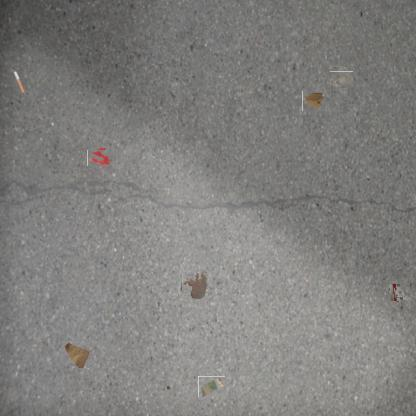dirty: (63, 340, 92, 370), (199, 375, 224, 398), (302, 91, 325, 111), (331, 69, 352, 90), (388, 281, 410, 301), (12, 71, 28, 93)
liquid: (181, 270, 209, 298), (89, 149, 109, 168)
